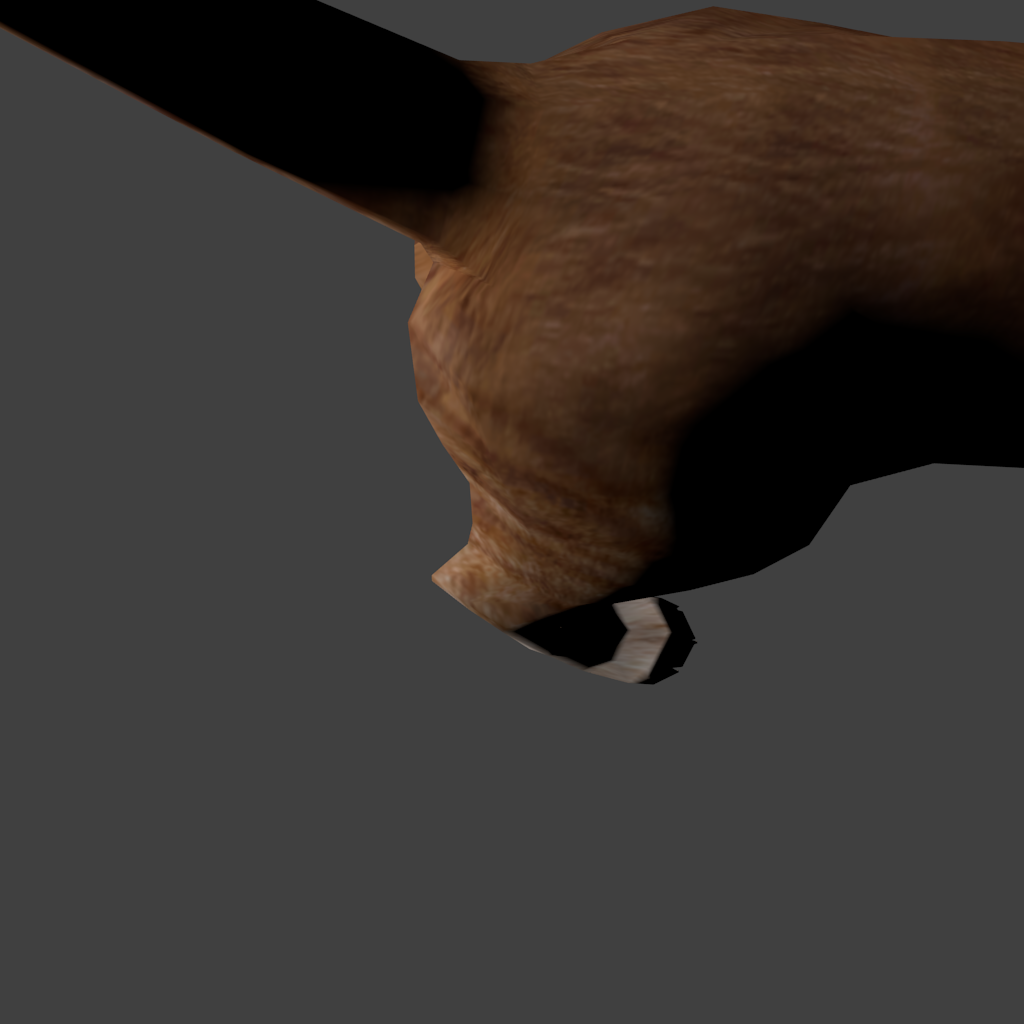Cat: (0, 0, 1024, 685)
